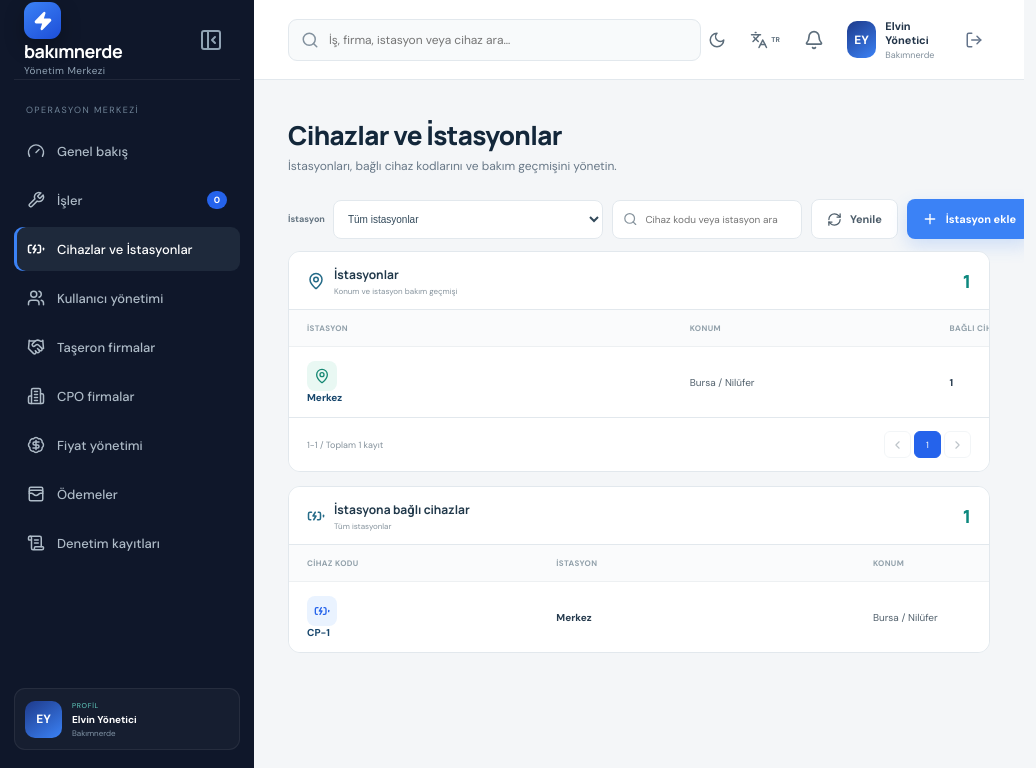
Scenario: Admin panel auth routing › Cihazlar ve İstasyonlar ekranını açar ve üst profil alanından hesap yönetimine gider
Expected: the heading "Cihazlar ve İstasyonlar" is shown, [288,117,562,153]
Expected: the text "CP-1" is shown, [307,626,330,639]
Step 1. Click the button with aria-label "Hesap yönetimine git" → (894, 40), box [841,18,948,62]
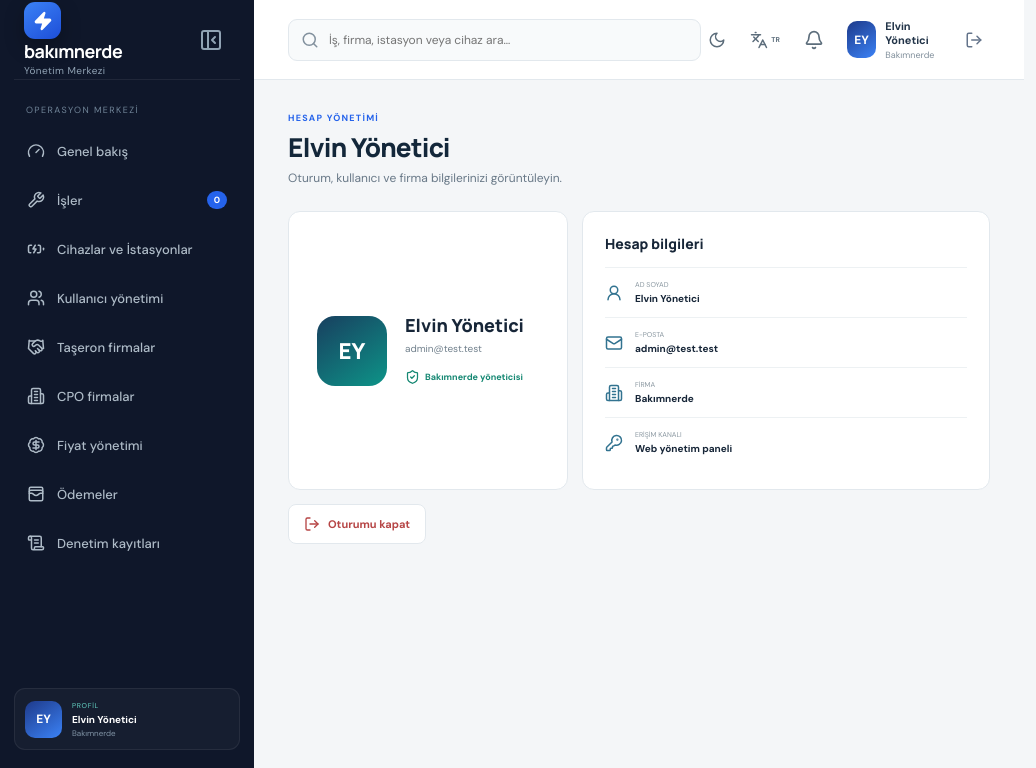
Result: the heading "Hesap bilgileri" is shown at [605,234,704,253]
